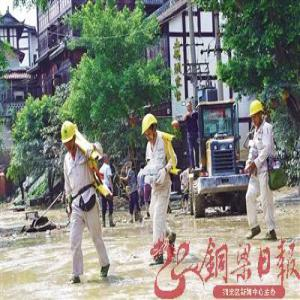none: (186, 101, 194, 114), (103, 153, 110, 166)
yellow: (60, 122, 78, 153), (142, 115, 158, 143), (251, 101, 264, 128)
